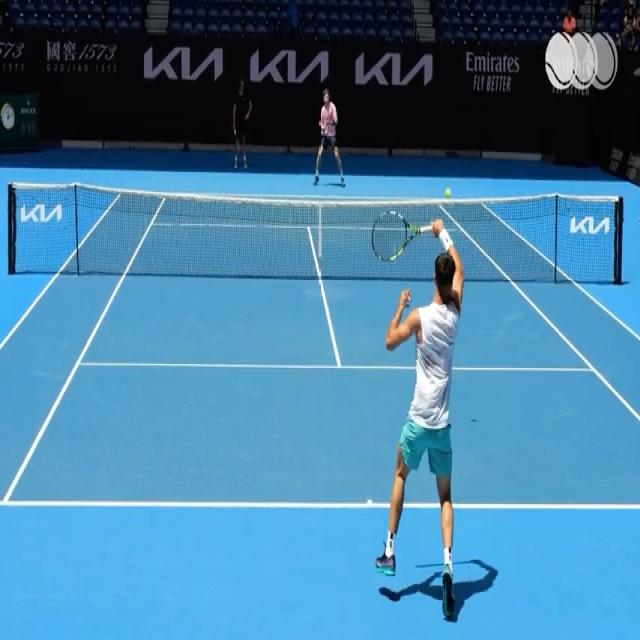forehand-stroke: (372, 209, 467, 582)
